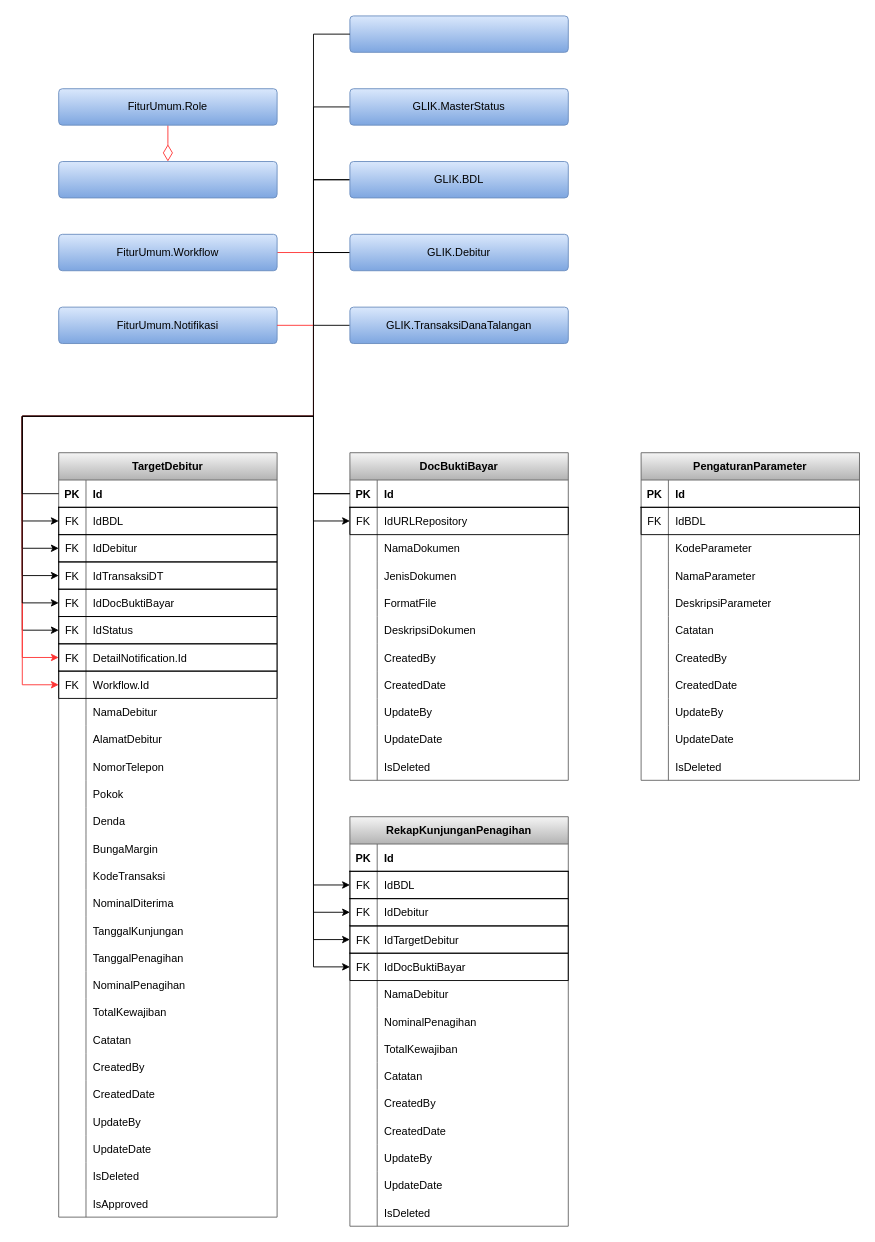
The diagram is 875 pixels wide and 1242 high, and some of its shapes have lost their labels. The centre of each missing label's shape, as x and y in pixels:
FiturUmum.User: the point at 167,179
GLIK.DocURLRepository: the point at 458,33
